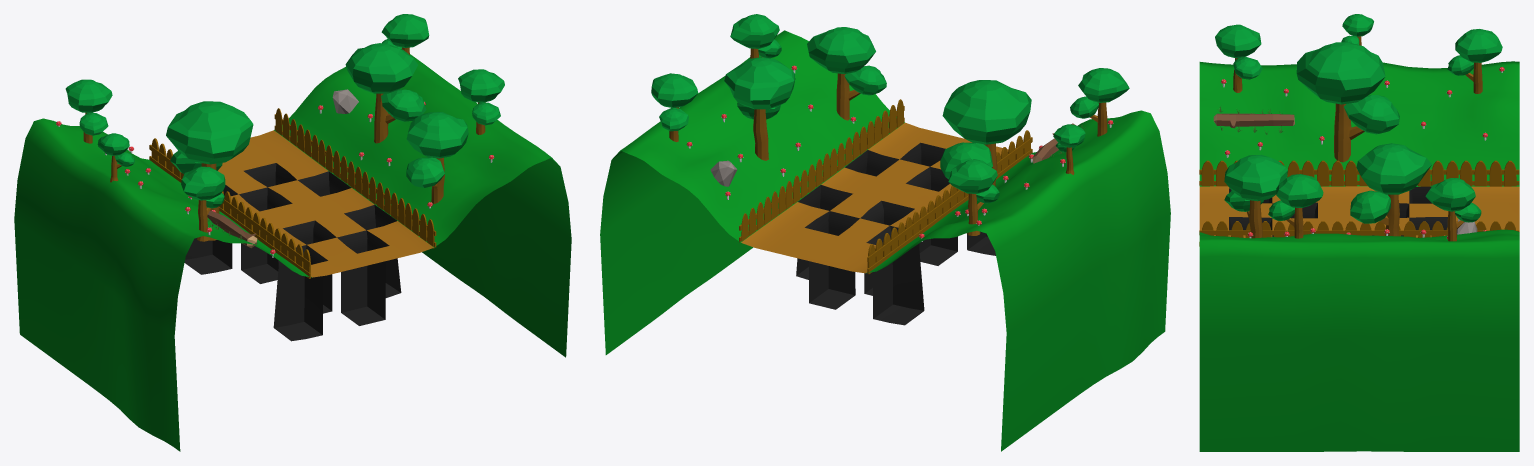
Rendered from Floor2.fbx.
The picture shows the model from 3 angles, left to right: view 1: azimuth 30°, elevation 25°; view 2: azimuth 150°, elevation 25°; view 3: azimuth 270°, elevation 25°; orthographic projection. The views are drawn at different scales.
Parts seen in each view (by area): view 1: floor2; view 2: floor2; view 3: floor2.
Part boxes in pixels (box(x1,y1,x2,y2)): floor2: box(14, 14, 571, 451); floor2: box(600, 14, 1170, 451); floor2: box(1199, 14, 1519, 451).
Bounding box in the file's own units: 58.01 × 37.14 × 40.03.
